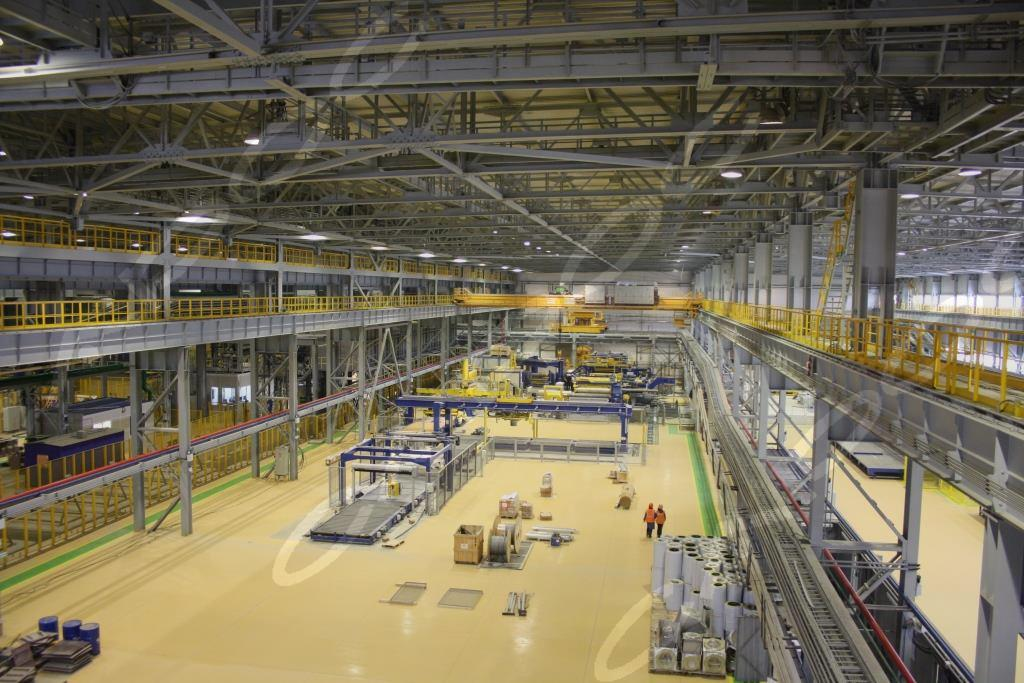person: (643, 502, 656, 541), (655, 505, 666, 539)
